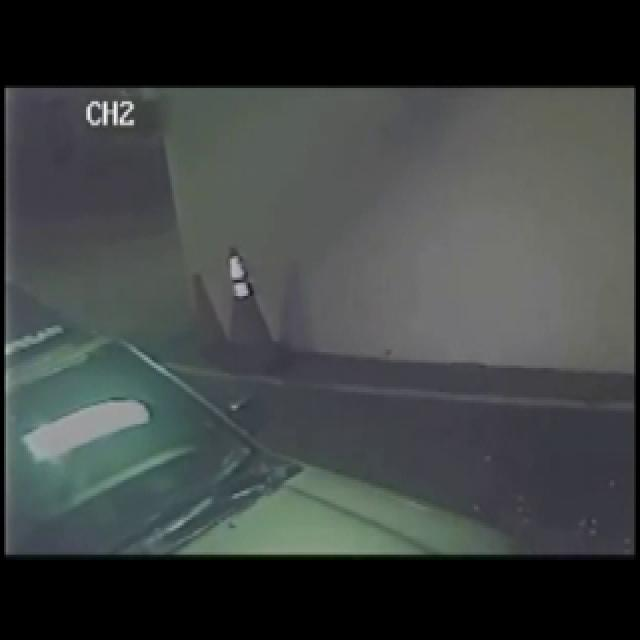arson: (6, 242, 381, 560)
